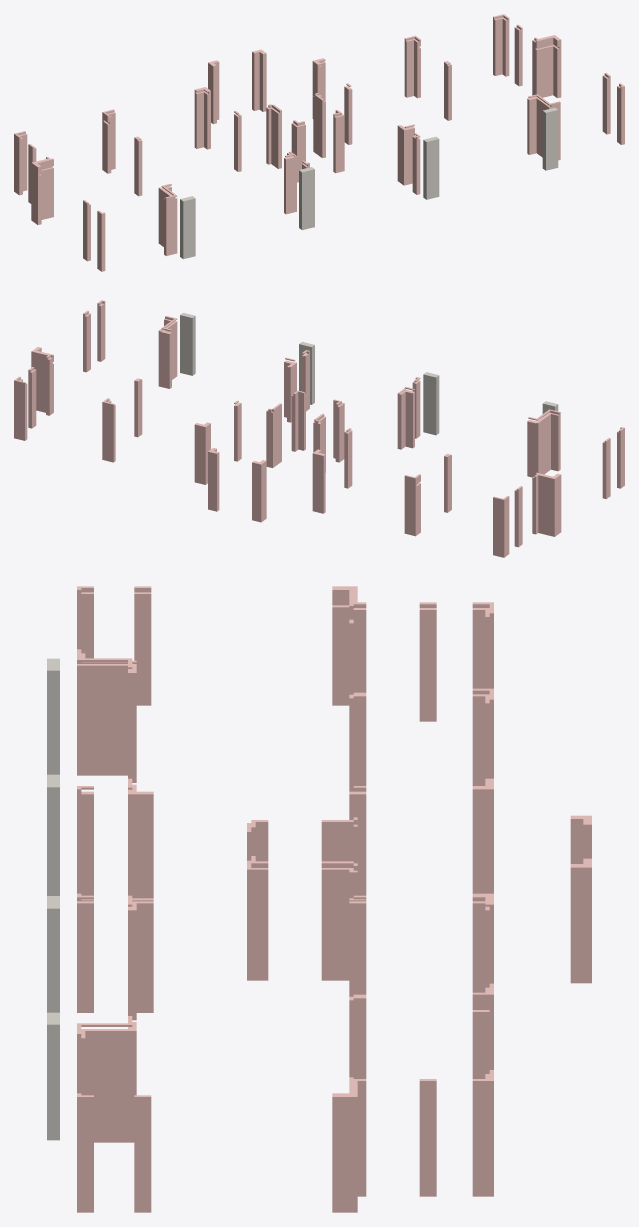
3 renders of one model, top to bottom at view 1: azimuth 30°, elevation 25°; view 2: azimuth 150°, elevation 25°; view 3: azimuth 270°, elevation 25°, orthographic. The views are drawn at different scales.
Visible parts, largest first — view 1: C_Z, C_Q; view 2: C_Z, C_Q; view 3: C_Z, C_Q.
Boxes of the visible parts, <box> form: C_Z: <box>14,14,624,271</box>; C_Q: <box>180,107,558,259</box>; C_Z: <box>14,300,624,557</box>; C_Q: <box>180,313,558,435</box>; C_Z: <box>77,586,591,1212</box>; C_Q: <box>47,658,59,1140</box>.
Bounding box in the file's own units: 28.4 × 3 × 12.8.
